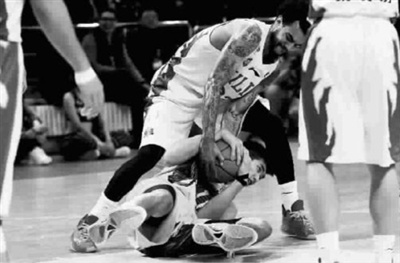falling: (80, 114, 282, 260)
